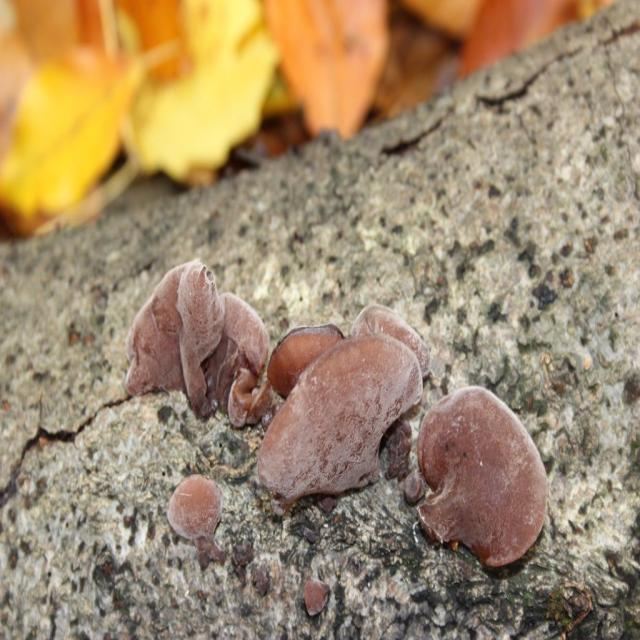Fase Muda: (169, 475, 236, 569)
Matang: (266, 299, 416, 504), (118, 262, 276, 433), (416, 378, 546, 579)
primordia: (302, 568, 338, 628)
